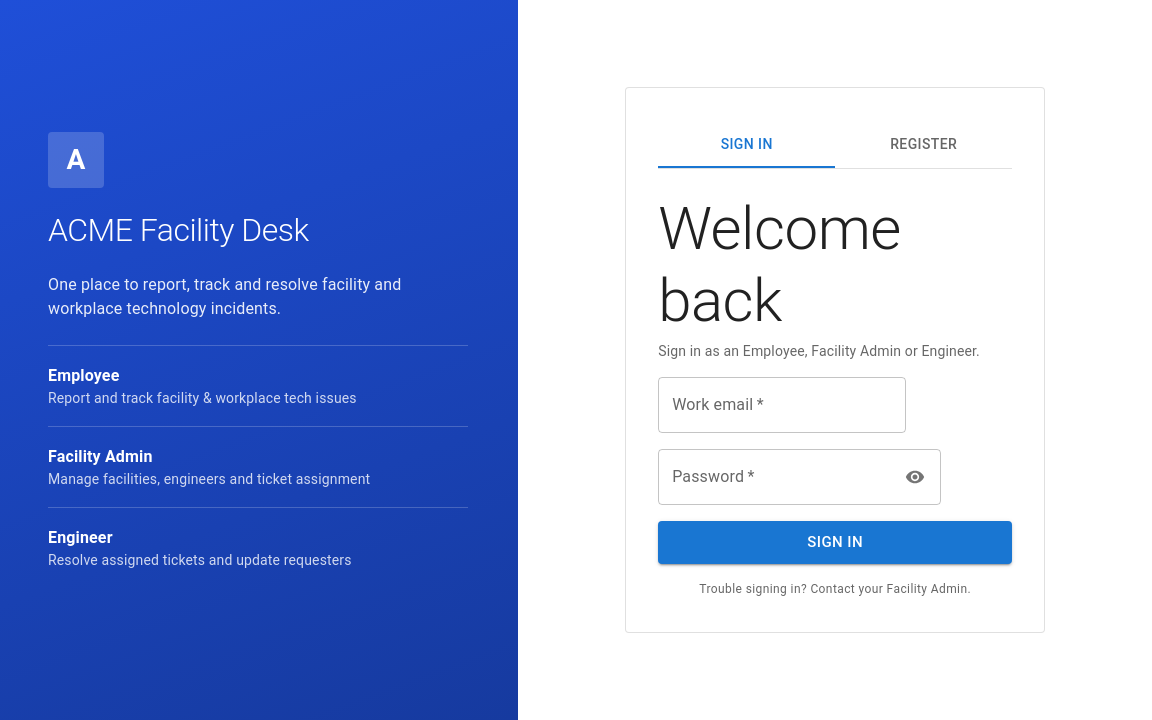
it: Login page › validates before calling the server
Click the button "Sign in": [835, 543] box [658, 521, 1012, 564]
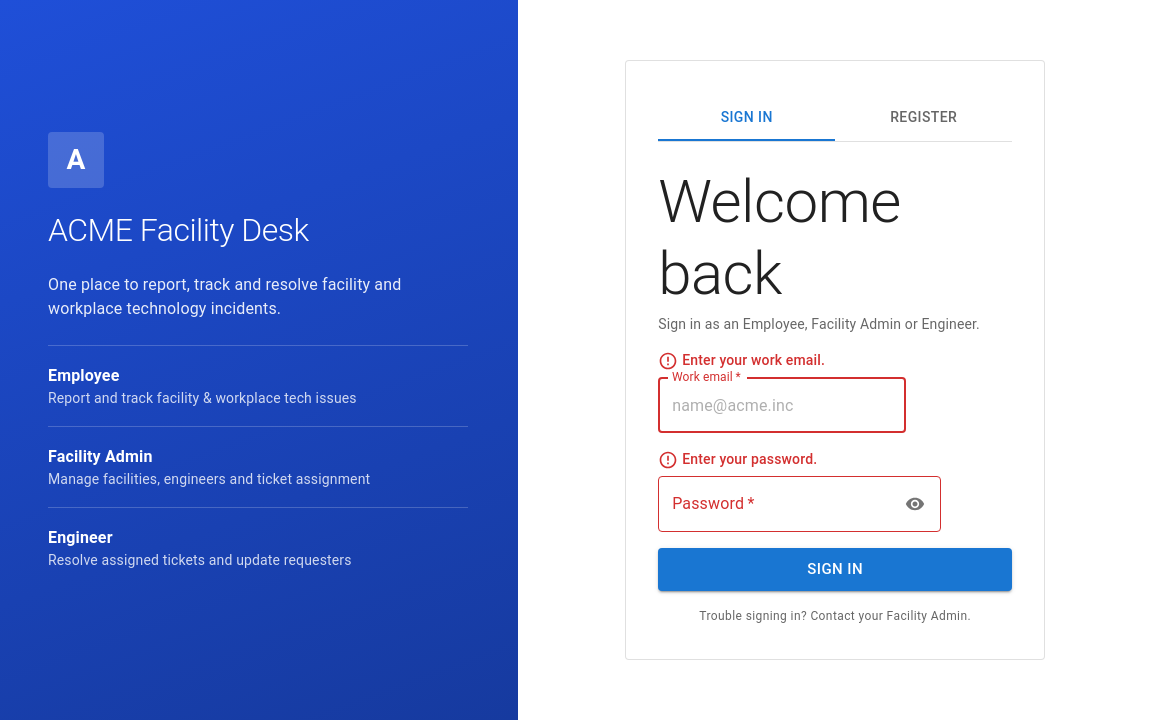
Expected: the password field labelled "Password *" is marked as invalid, [658, 476, 892, 532]
In the field labelled "Work email *": [782, 405] box [658, 377, 906, 433], type "me@gmail.com"
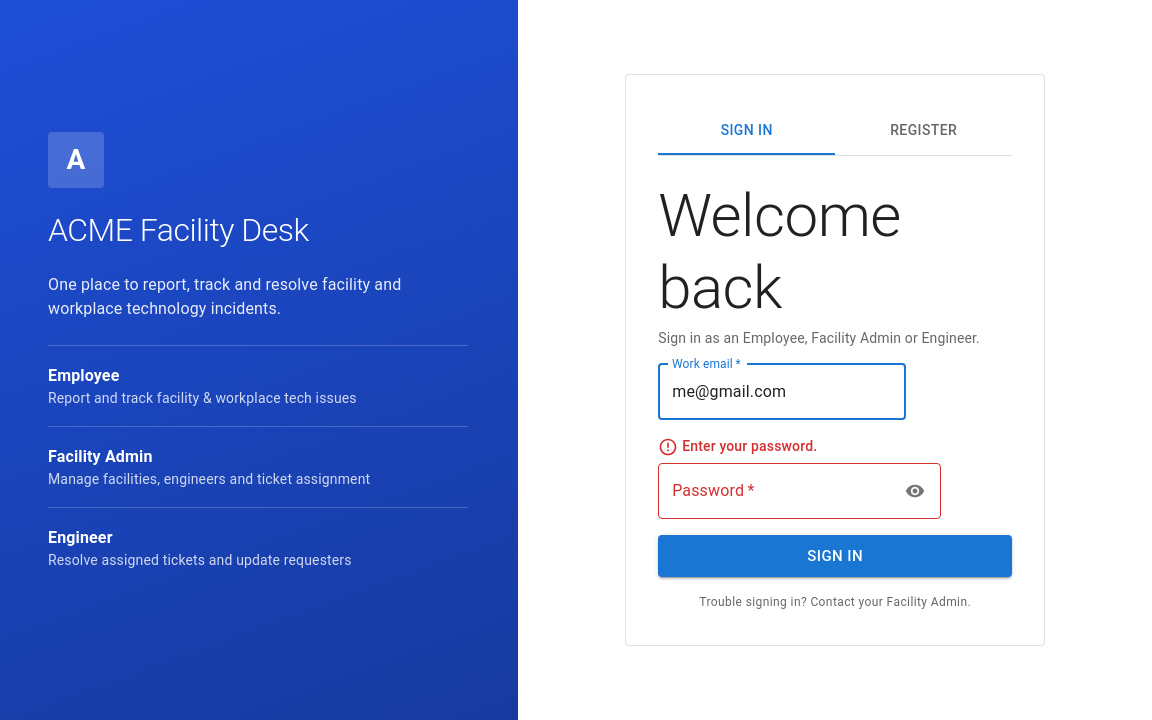
In the password field labelled "Password *": [775, 491] box [658, 463, 892, 519], type "Password123!"
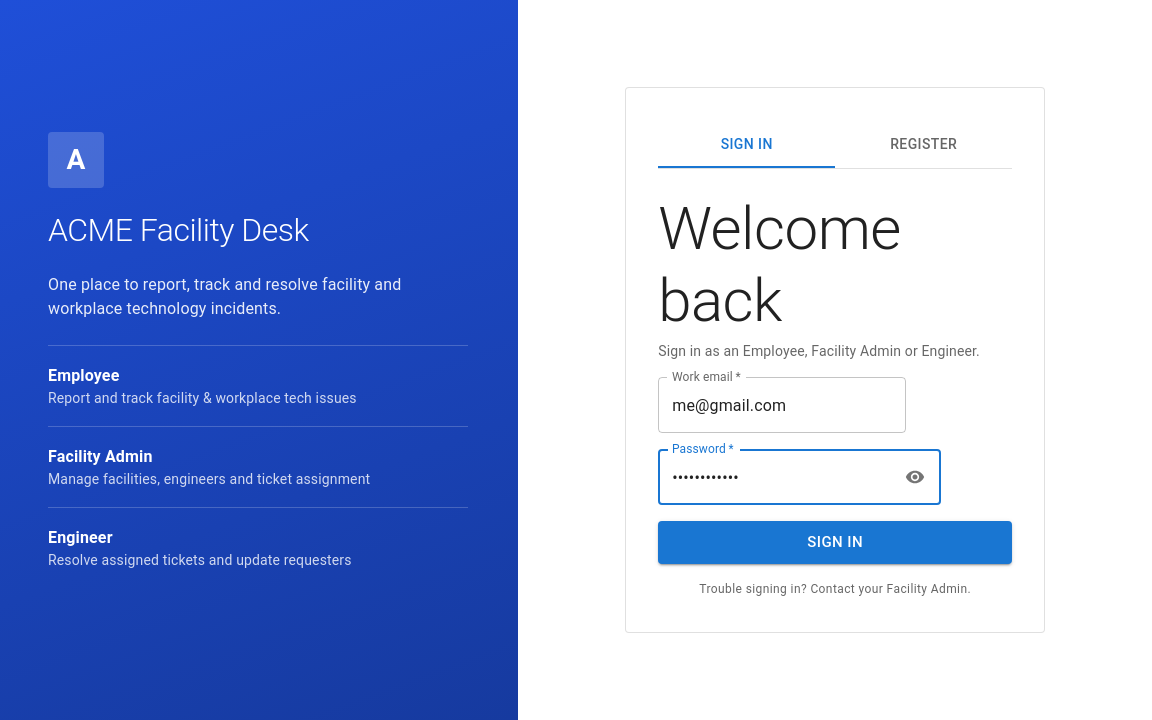
Click the button "Sign in": [835, 543] box [658, 521, 1012, 564]
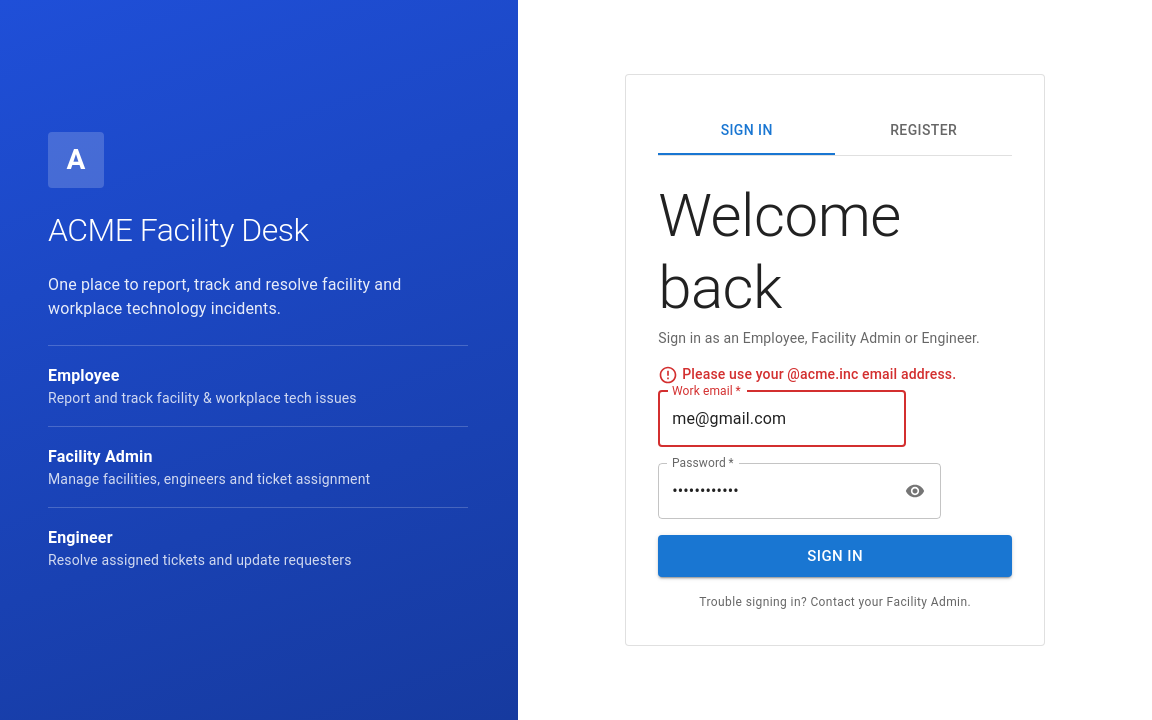
Expected: the password field labelled "Password *" does not have attribute aria-invalid="true", [658, 463, 892, 519]
